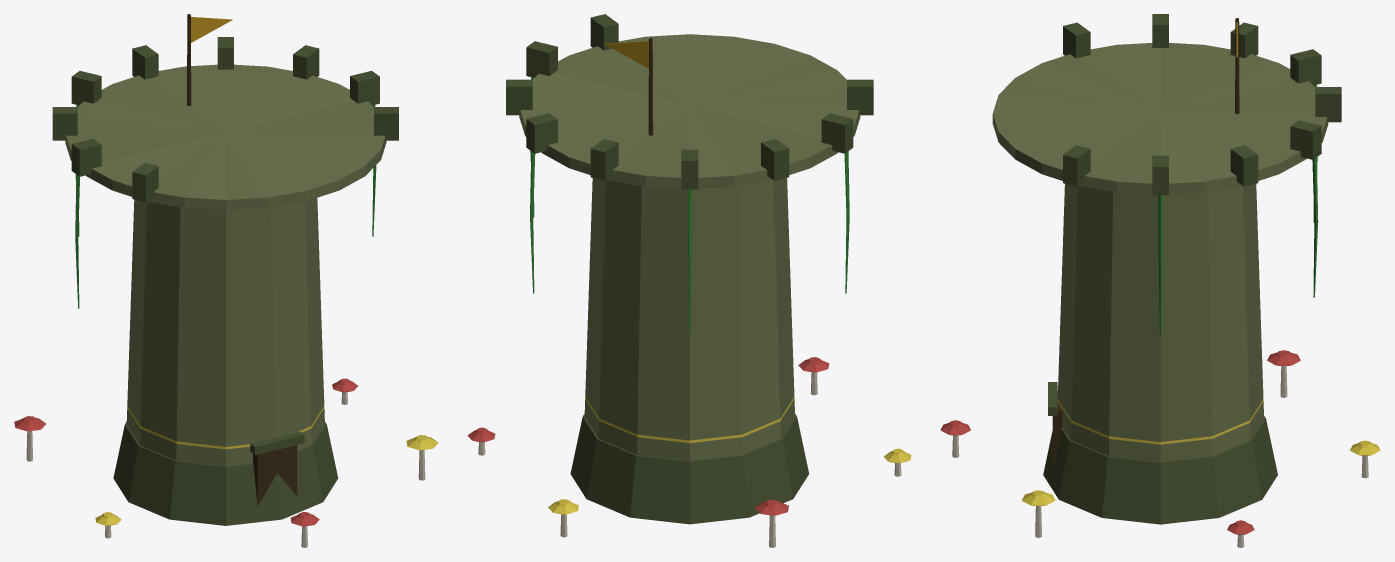
File: tower_jungle.glb
3 renders of one model, left to right at view 1: azimuth 30°, elevation 25°; view 2: azimuth 150°, elevation 25°; view 3: azimuth 270°, elevation 25°, orthographic. The views are drawn at different scales.
Parts seen in each view (by area): view 1: tower_jungle; view 2: tower_jungle; view 3: tower_jungle.
Part boxes in pixels (x1,y1,x2,y2): tower_jungle: (14, 14, 438, 547); tower_jungle: (467, 14, 911, 547); tower_jungle: (940, 14, 1380, 547).
Size of the model in its own units: 16.94 by 21 by 18.37.
